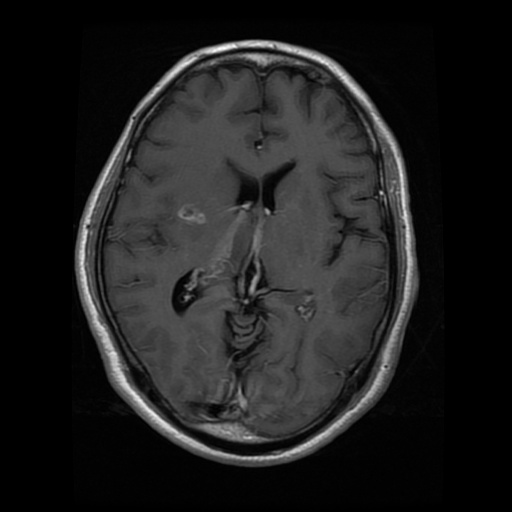glioma: (177, 202, 207, 224)
